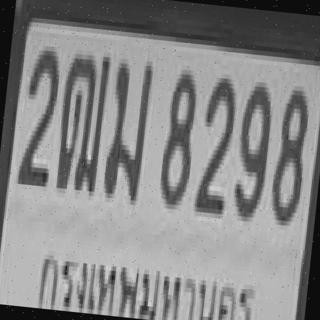A18: (52, 48, 111, 195)
A33: (102, 54, 154, 201)
N02: (17, 46, 63, 188), (194, 77, 238, 214)
N08: (157, 69, 200, 211), (269, 88, 311, 225)
N09: (232, 80, 274, 222)
P04: (29, 235, 260, 320)
